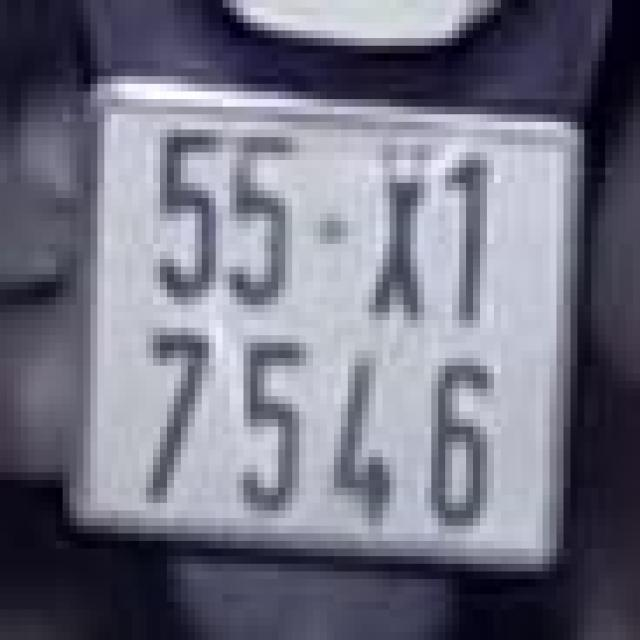1: (445, 145, 494, 343)
4: (330, 343, 407, 533)
5: (230, 328, 313, 518), (226, 125, 303, 308), (146, 114, 216, 305)
6: (428, 354, 497, 545)
7: (139, 324, 216, 506)
X: (365, 130, 428, 335)
